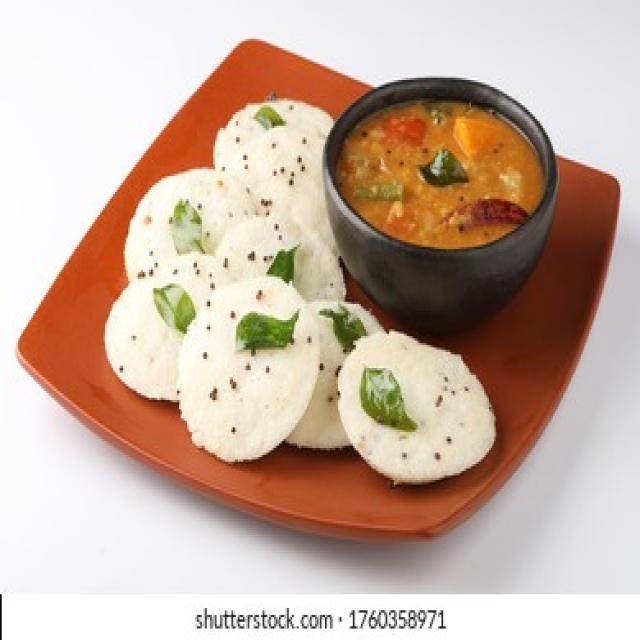IDLI: (159, 98, 345, 293), (179, 279, 325, 459), (338, 331, 494, 482), (105, 261, 217, 400), (125, 167, 254, 279)
